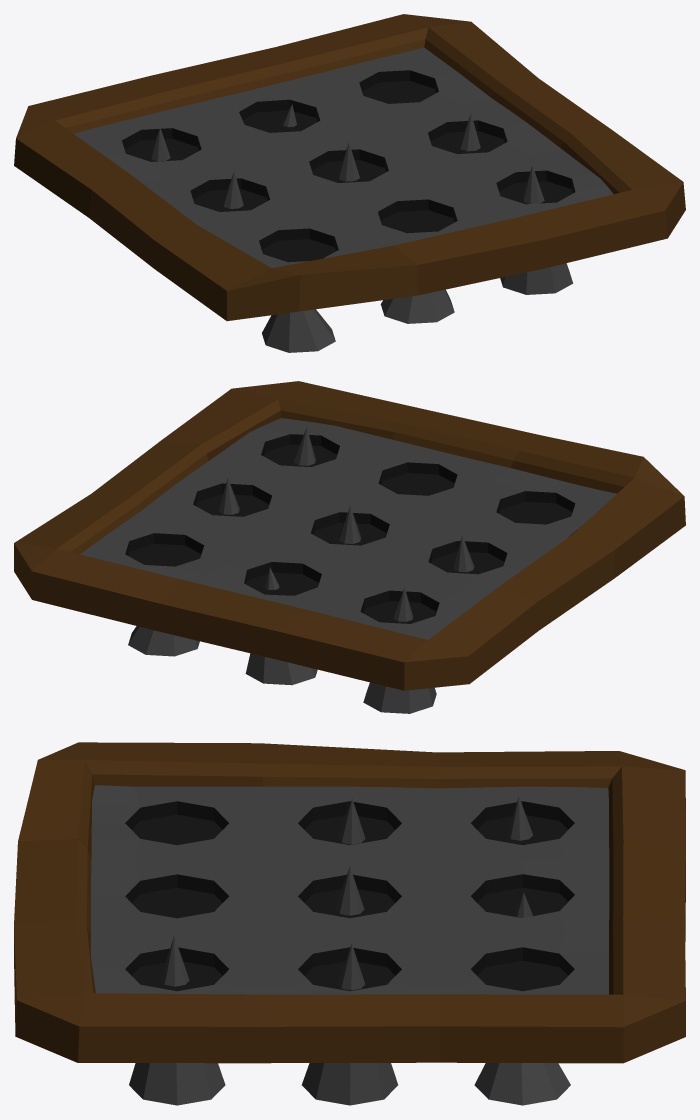
The model's file is Spikes_destruction1.fbx.
3 renders of one model, top to bottom at view 1: azimuth 30°, elevation 25°; view 2: azimuth 150°, elevation 25°; view 3: azimuth 270°, elevation 25°, orthographic. The views are drawn at different scales.
Visible parts, largest first — view 1: Cube.004, Cube.003; view 2: Cube.004, Cube.003; view 3: Cube.004, Cube.003.
Part boxes in pixels (<box>): Cube.004: <box>14,14,685,321</box>; Cube.003: <box>150,104,573,352</box>; Cube.004: <box>14,381,685,690</box>; Cube.003: <box>128,427,474,713</box>; Cube.004: <box>14,742,685,1063</box>; Cube.003: <box>129,797,570,1105</box>.
Size of the model in its own units: 200 by 48.15 by 200.
